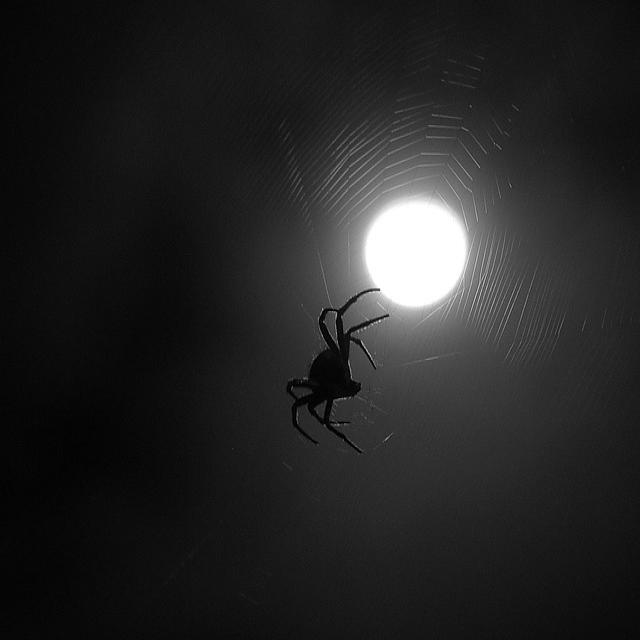spyder: (287, 288, 389, 454)
